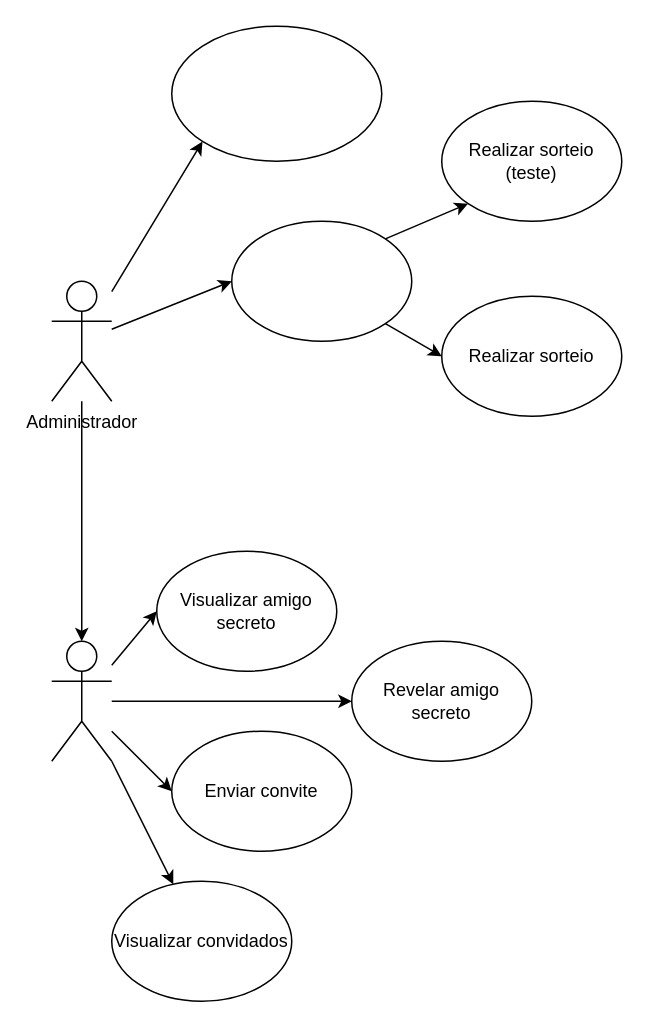
Image size: 648x1028. Some labels were removed from this diagram. Here are the shapes that lost their labels. From the top down, the box of each, then its label:
(170, 25, 382, 161): Excluir convidado
(230, 220, 412, 341): Criar grupo
(50, 640, 112, 761): convidados
